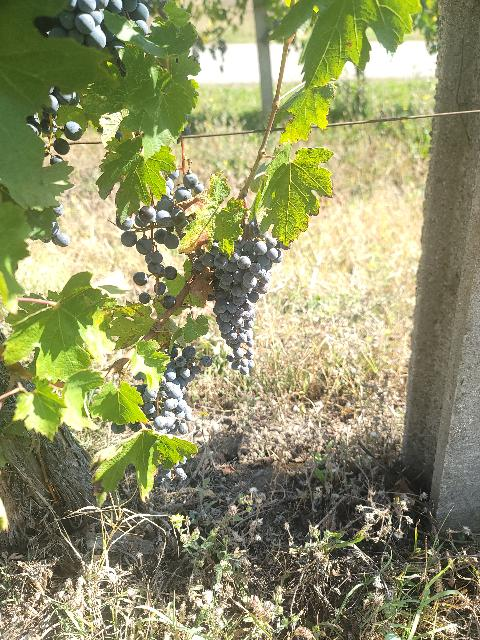grapes: (201, 219, 282, 375), (116, 170, 204, 310), (135, 345, 201, 435)
